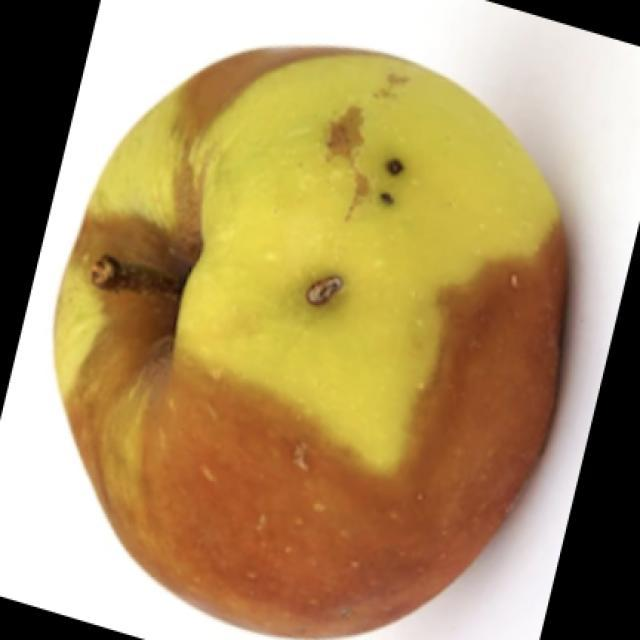Rotten: (85, 58, 573, 640)
